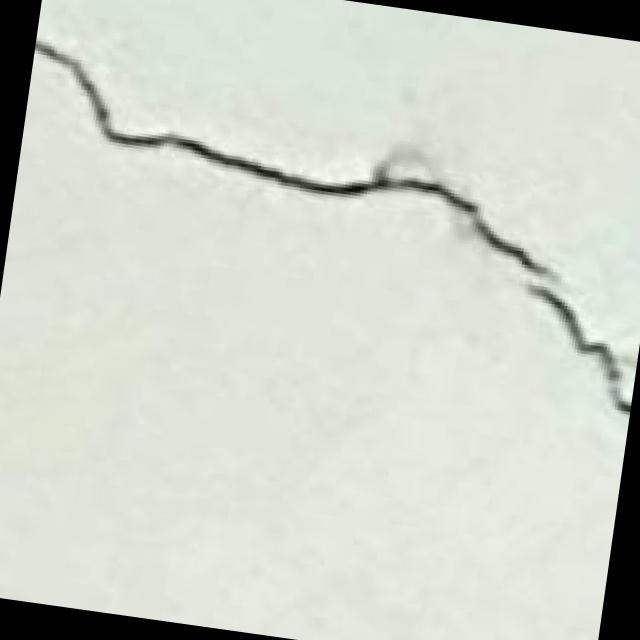crack: (0, 15, 640, 437)
